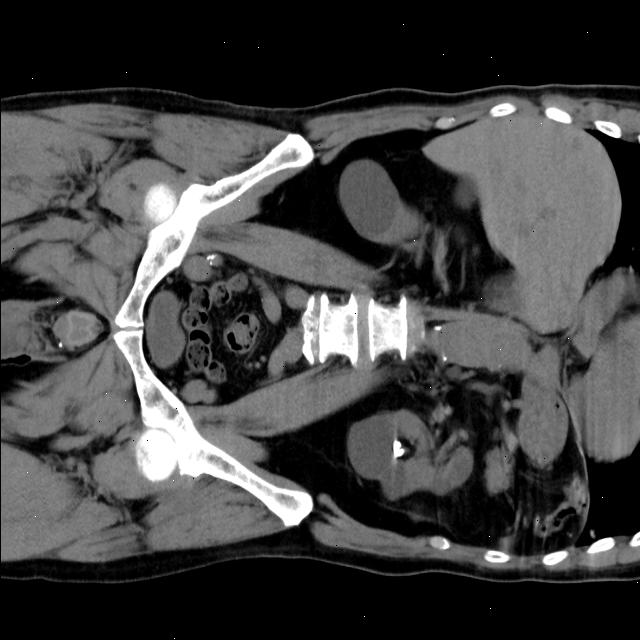kidneystone: (392, 437, 412, 461)
